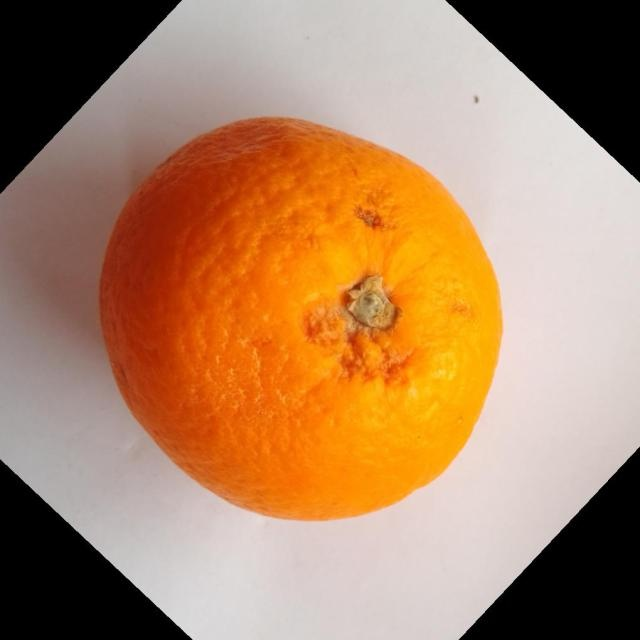agrume: (96, 114, 504, 522)
